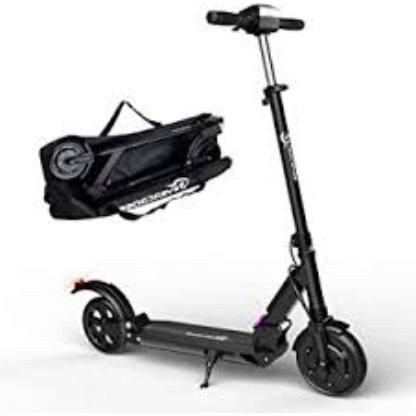bike: (65, 5, 370, 398)
